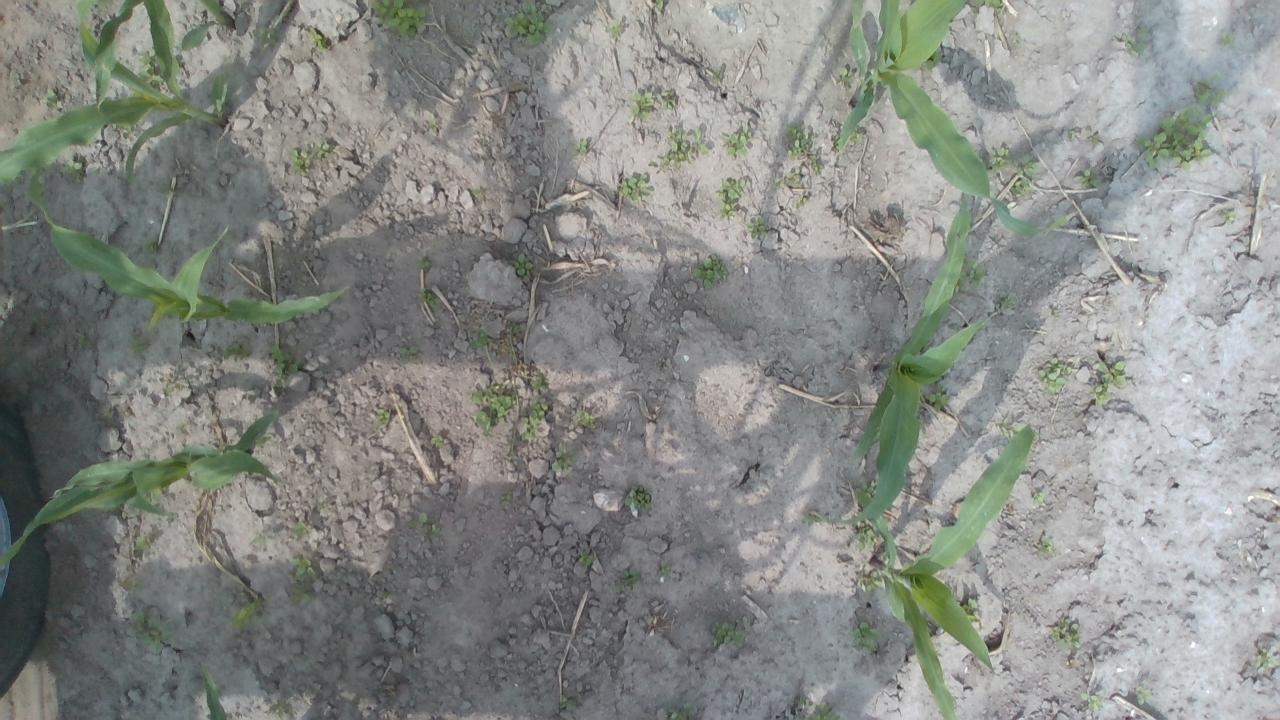Maize: (838, 0, 1076, 243), (821, 190, 990, 524), (856, 427, 1036, 720), (23, 170, 350, 331), (0, 412, 281, 570), (0, 0, 232, 182), (95, 0, 233, 111), (195, 664, 228, 720)
Weeds: (1136, 107, 1215, 170), (650, 125, 709, 174), (366, 0, 426, 41), (504, 2, 552, 46), (470, 386, 512, 434), (270, 345, 304, 394), (134, 612, 169, 653), (1038, 356, 1073, 395), (715, 178, 746, 221), (692, 254, 728, 290), (710, 618, 750, 650), (782, 121, 815, 158), (136, 47, 166, 87), (521, 400, 549, 442), (1049, 616, 1081, 651), (1193, 72, 1224, 106), (232, 596, 262, 630), (720, 126, 751, 158), (954, 594, 978, 632), (620, 172, 650, 201), (624, 485, 654, 513), (851, 622, 879, 651), (627, 91, 654, 121), (1094, 360, 1126, 385), (1120, 28, 1148, 56), (1013, 152, 1040, 178), (288, 557, 321, 578), (996, 418, 1026, 441), (926, 383, 950, 411), (854, 526, 878, 553), (1253, 648, 1280, 672), (854, 481, 877, 509), (807, 703, 844, 720), (1080, 688, 1104, 714), (288, 148, 310, 176), (745, 216, 770, 240), (514, 253, 534, 282), (288, 588, 314, 610), (990, 146, 1009, 176), (1074, 168, 1102, 188), (858, 568, 880, 593), (469, 326, 490, 352), (969, 255, 985, 289), (63, 160, 84, 185), (307, 30, 328, 55), (974, 0, 1004, 17), (372, 406, 390, 434), (1094, 382, 1112, 409), (920, 48, 940, 72), (418, 286, 442, 306), (668, 704, 697, 720), (952, 266, 967, 296), (422, 109, 440, 134), (256, 28, 278, 48), (998, 292, 1017, 314), (550, 454, 570, 474), (1009, 179, 1032, 196), (622, 567, 640, 588), (408, 512, 430, 529), (145, 487, 164, 506), (128, 334, 146, 354), (1135, 685, 1152, 706), (808, 154, 824, 176), (107, 124, 136, 136), (574, 409, 592, 428), (254, 432, 274, 449), (272, 699, 288, 720), (316, 143, 335, 160), (1039, 536, 1055, 556), (252, 530, 272, 546), (222, 344, 242, 360), (660, 90, 674, 112), (785, 167, 801, 186), (504, 319, 522, 335), (559, 694, 577, 710), (398, 346, 418, 360), (572, 142, 588, 159), (142, 238, 158, 255), (578, 547, 593, 565), (848, 129, 864, 145), (1218, 30, 1234, 46), (838, 66, 852, 84), (794, 192, 809, 208), (530, 374, 545, 390), (46, 87, 58, 107), (292, 522, 306, 539), (133, 536, 147, 553), (1222, 208, 1236, 225), (176, 420, 193, 434), (1010, 31, 1023, 49), (417, 256, 432, 270), (608, 19, 622, 33), (800, 513, 814, 527), (431, 433, 444, 448), (771, 175, 783, 191), (158, 180, 170, 196), (37, 175, 46, 196), (77, 334, 90, 348), (660, 560, 671, 576), (830, 135, 840, 152), (498, 493, 515, 503), (1032, 492, 1046, 504), (1068, 128, 1079, 143), (1052, 304, 1062, 320), (1088, 134, 1100, 146), (318, 496, 326, 512), (431, 524, 441, 536), (799, 696, 811, 706), (654, 0, 666, 9), (712, 66, 721, 76), (383, 590, 393, 597), (191, 23, 198, 30)
